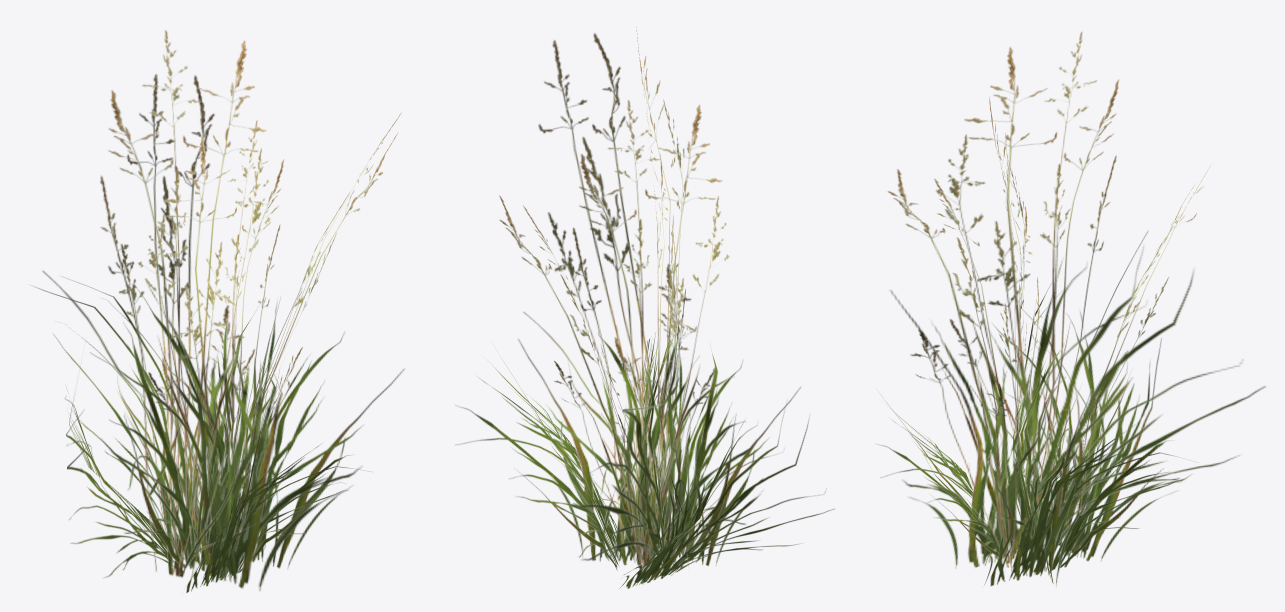
File: foliage_02.gltf
3 views of the same model, side by side, from view 1: azimuth 30°, elevation 25°; view 2: azimuth 150°, elevation 25°; view 3: azimuth 270°, elevation 25° (orthographic).
Visible parts, largest first — view 1: tall_bush_3_phong3_0; view 2: tall_bush_3_phong3_0; view 3: tall_bush_3_phong3_0.
Part boxes in pixels (box(x1,y1,x2,y2)): tall_bush_3_phong3_0: box(31, 29, 404, 593); tall_bush_3_phong3_0: box(455, 27, 834, 588); tall_bush_3_phong3_0: box(876, 31, 1265, 587).
Bounding box in the file's own units: 3.15 × 4.69 × 3.19.
1 material, 1 textured.
